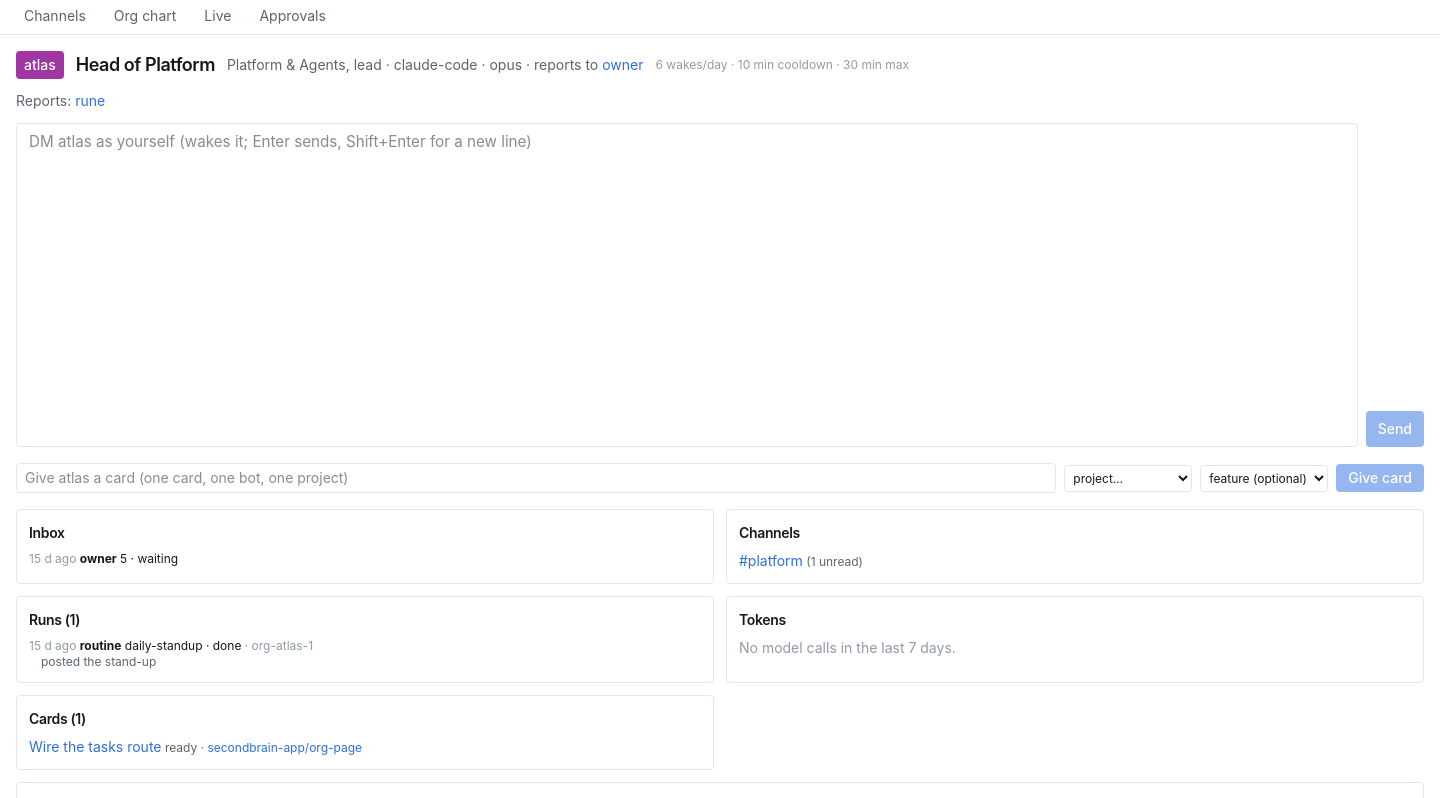
Test: Org page › gives a bot a card from its page: one card, one bot, one project
The image size is (1440, 798).
Expected: the heading "Head of Platform" is shown, [76,51,215,79]
Type "Ship it" into the field named "Card for atlas". click: (536, 478)
box: [16,463,1056,493]
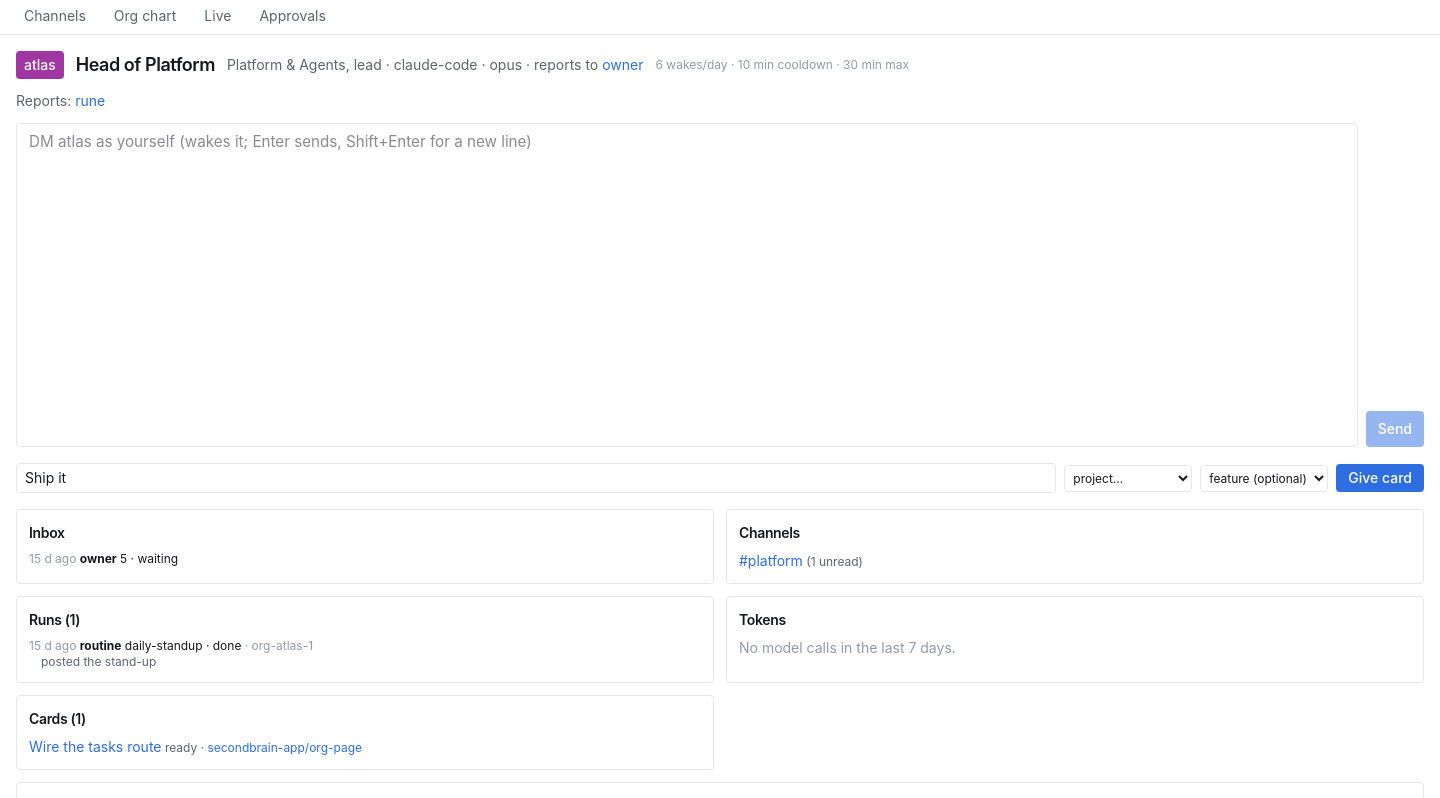
Expected: the button "Give card" is enabled, [1336,464,1424,492]
Select "secondbrain-app" in the dropdown named "Project". click: (1128, 478)
box: [1064,464,1192,492]
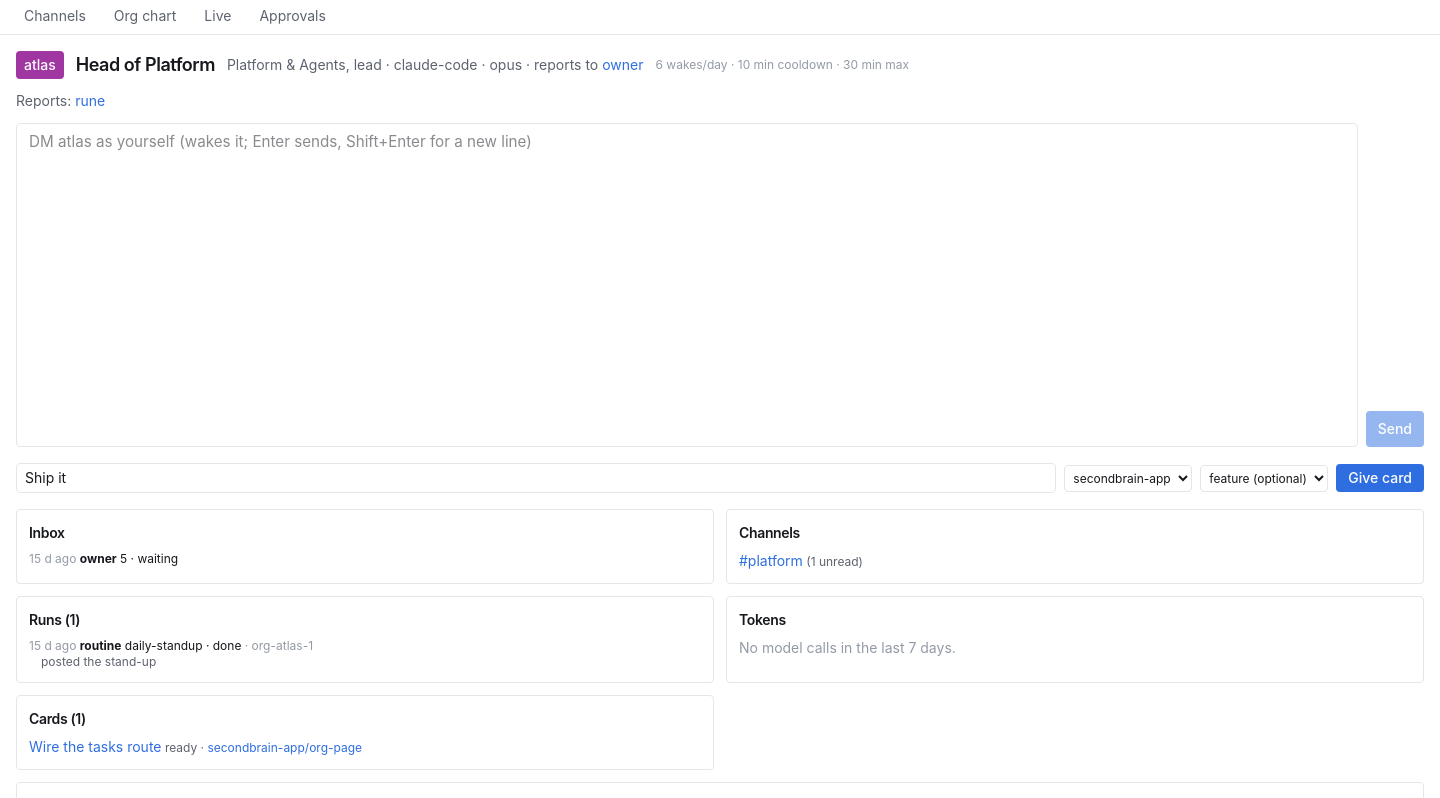
Select "org-page" in the dropdown named "Feature". click: (1264, 478)
box: [1200,464,1328,492]
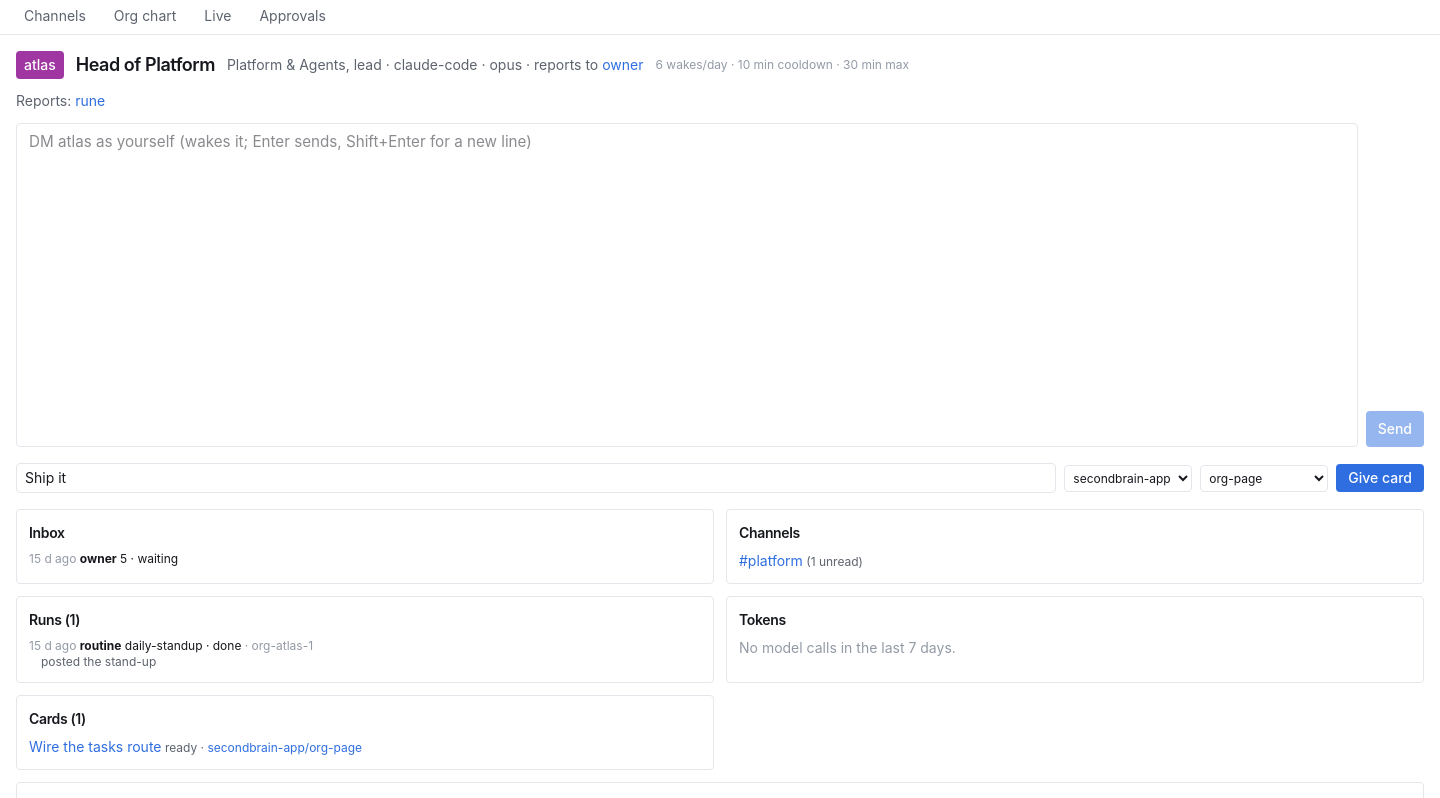
Click the button "Give card". click: (1380, 478)
box: [1336,464,1424,492]
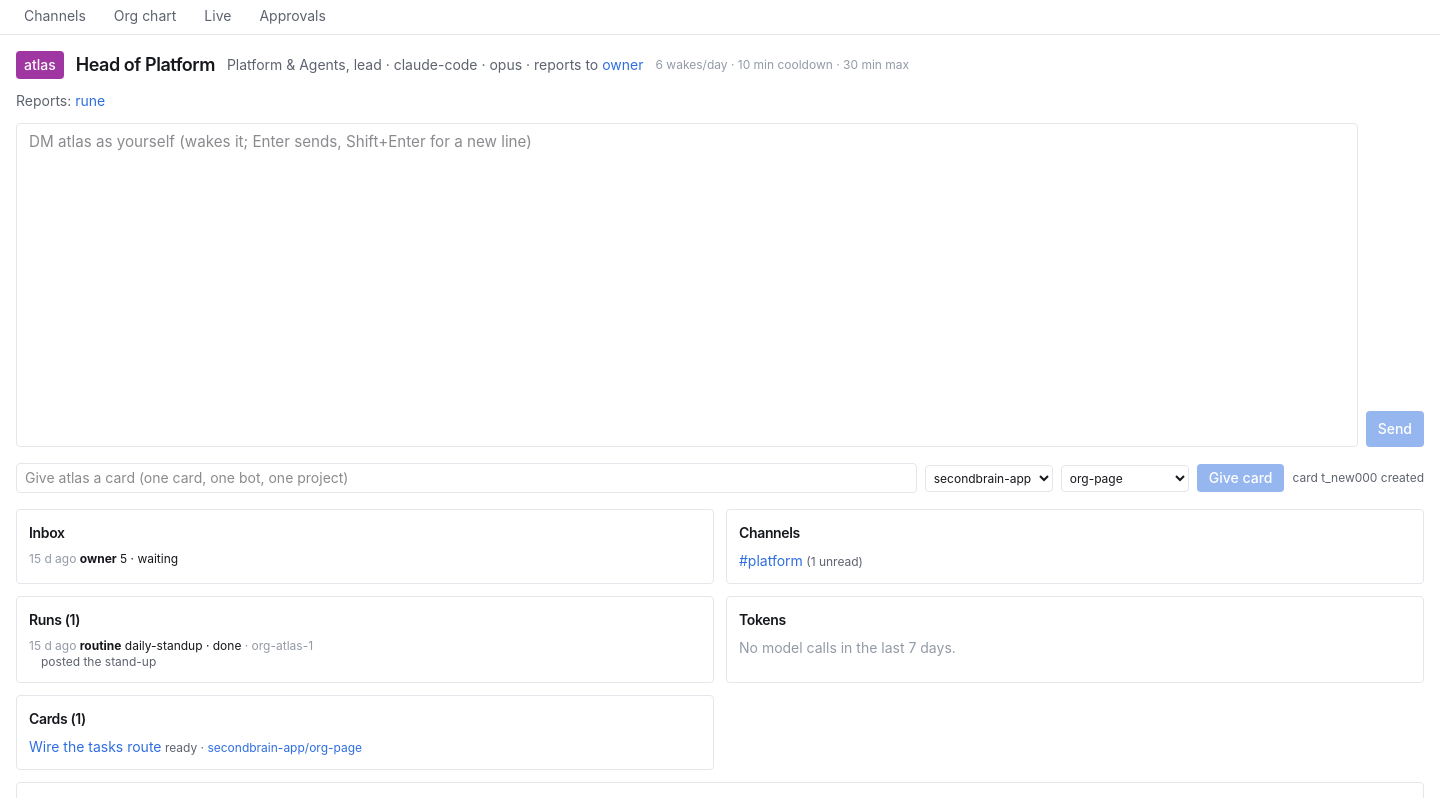
Expected: the text "card t_new000 created" is shown, [1292,470,1424,486]
